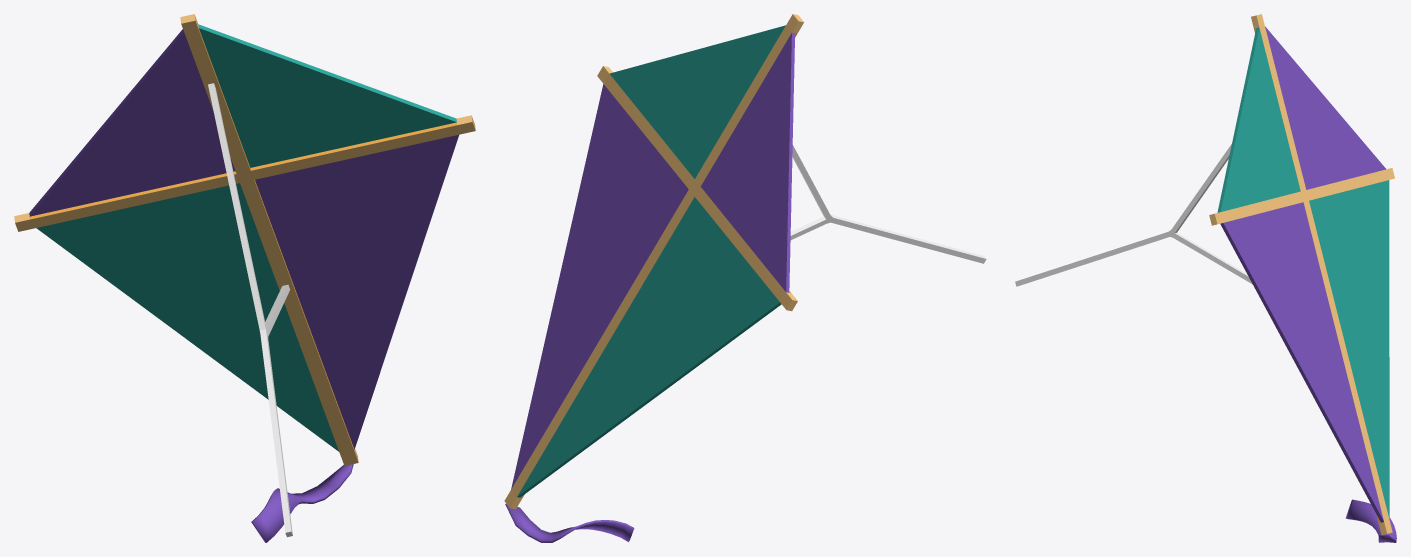
The model's file is kite.glb.
The picture shows the model from 3 angles, left to right: view 1: azimuth 30°, elevation 25°; view 2: azimuth 150°, elevation 25°; view 3: azimuth 270°, elevation 25°; orthographic projection. The views are drawn at different scales.
Visible parts, largest first — view 1: Plane.310; view 2: Plane.310; view 3: Plane.310.
Boxes of the visible parts, x1,y1,x2,y2 form: Plane.310: (14,14,475,542); Plane.310: (504,14,986,542); Plane.310: (1015,14,1396,542).
Size of the model in its own units: 1.28 by 2.13 by 1.62.
Materials: 1 (1 with a texture image).
